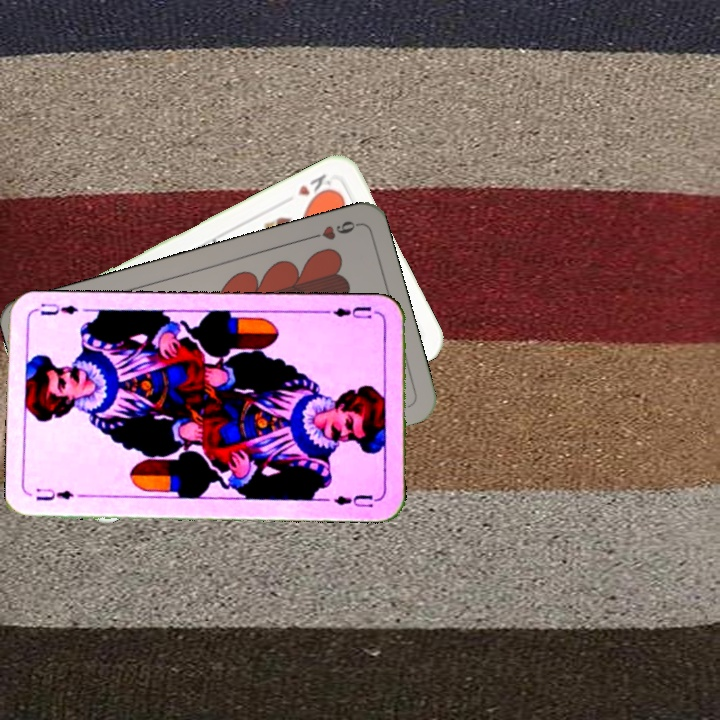EU: (322, 303, 374, 322), (32, 484, 76, 504)
H9: (303, 216, 361, 243)
HK: (293, 169, 336, 205)
